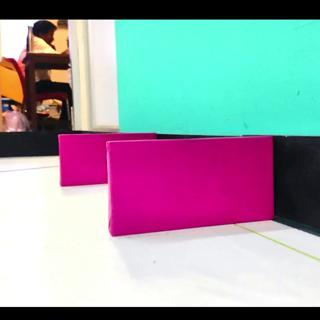xparking: (110, 142, 272, 239), (61, 135, 106, 185)
